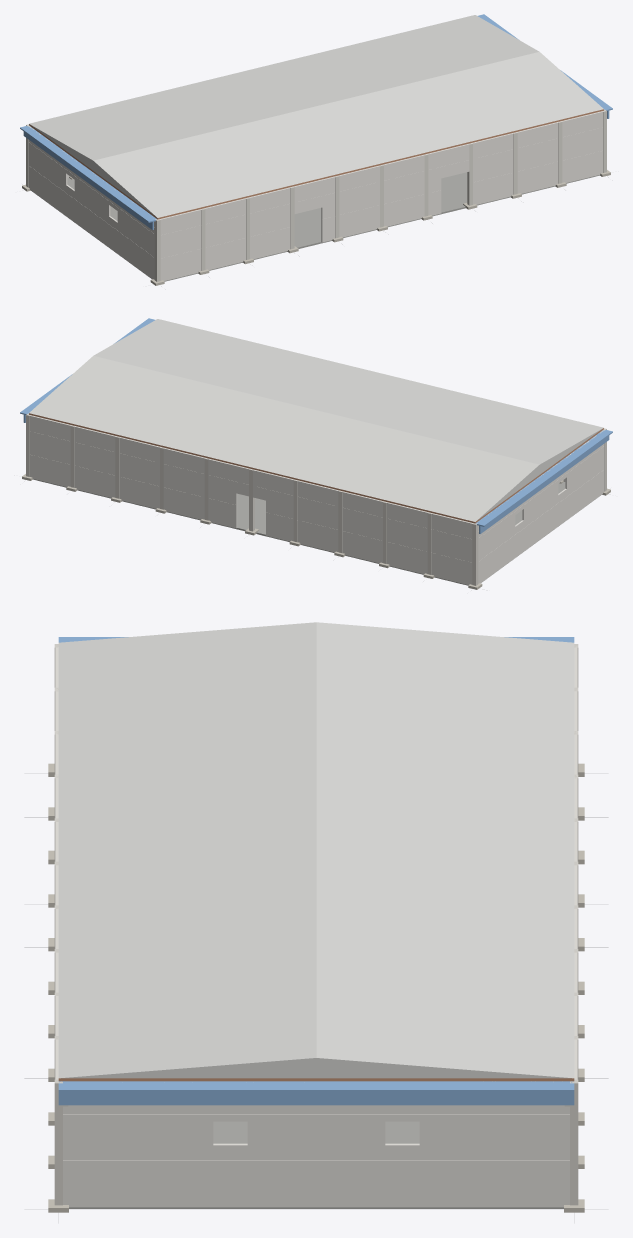
The model's file is warehouse-3d.glb.
3 views of the same model, one above another, from view 1: azimuth 30°, elevation 25°; view 2: azimuth 150°, elevation 25°; view 3: azimuth 270°, elevation 25° (orthographic). The views are drawn at different scales.
Parts seen in each view (by area): view 1: ConcreteRoofRidge, PrecastWallFront_JointCut_2, PrecastWallLeft_JointCut_2, ConcreteFloorSlab, PrecastTBeamFlange_0, PrecastTBeamWeb_0_0, ConcreteColumn_0, PrecastTBeamFlange_10, HollowCoreRoofPanel_0; view 2: ConcreteRoofRidge, PrecastWallRear_JointCut_2, PrecastWallLeft_JointCut_2, ConcreteFloorSlab, PrecastTBeamFlange_0, PrecastTBeamWeb_0_0, ConcreteColumn_1, PrecastTBeamFlange_10, HollowCoreRoofPanel_0; view 3: ConcreteRoofRidge, PrecastWallRight_JointCut_2, PrecastTBeamWeb_10_1, PrecastTBeamFlange_10, ConcreteFloorSlab, HollowCoreRoofPanel_9, PrecastWallFront_JointCut_2, PrecastWallRear_JointCut_2, ConcreteColumn_20, ConcreteColumn_21.
Part boxes in pixels (<box>): ConcreteRoofRidge: <box>29,15,603,217</box>; PrecastWallFront_JointCut_2: <box>158,111,604,280</box>; PrecastWallLeft_JointCut_2: <box>28,125,154,279</box>; ConcreteFloorSlab: <box>33,172,599,281</box>; PrecastTBeamFlange_0: <box>20,126,156,222</box>; PrecastTBeamWeb_0_0: <box>23,131,153,229</box>; ConcreteColumn_0: <box>154,219,160,281</box>; PrecastTBeamFlange_10: <box>478,14,612,110</box>; HollowCoreRoofPanel_0: <box>29,124,202,219</box>; ConcreteRoofRidge: <box>29,319,603,521</box>; PrecastWallRear_JointCut_2: <box>30,415,473,584</box>; PrecastWallLeft_JointCut_2: <box>478,430,604,583</box>; ConcreteFloorSlab: <box>33,479,599,585</box>; PrecastTBeamFlange_0: <box>476,430,612,526</box>; PrecastTBeamWeb_0_0: <box>479,435,609,533</box>; ConcreteColumn_1: <box>472,523,478,585</box>; PrecastTBeamFlange_10: <box>20,318,154,414</box>; HollowCoreRoofPanel_0: <box>430,428,603,523</box>; ConcreteRoofRidge: <box>58,622,574,1078</box>; PrecastWallRight_JointCut_2: <box>63,1105,569,1207</box>; PrecastTBeamWeb_10_1: <box>58,1092,574,1105</box>; PrecastTBeamFlange_10: <box>58,1081,574,1092</box>; ConcreteFloorSlab: <box>69,1121,563,1208</box>; HollowCoreRoofPanel_9: <box>58,1078,574,1081</box>; PrecastWallFront_JointCut_2: <box>55,647,58,1079</box>; PrecastWallRear_JointCut_2: <box>574,646,577,1079</box>; ConcreteColumn_20: <box>54,1079,62,1205</box>; ConcreteColumn_21: <box>570,1079,578,1205</box>.
Size of the model in its own units: 64000 by 9717 by 34000.
